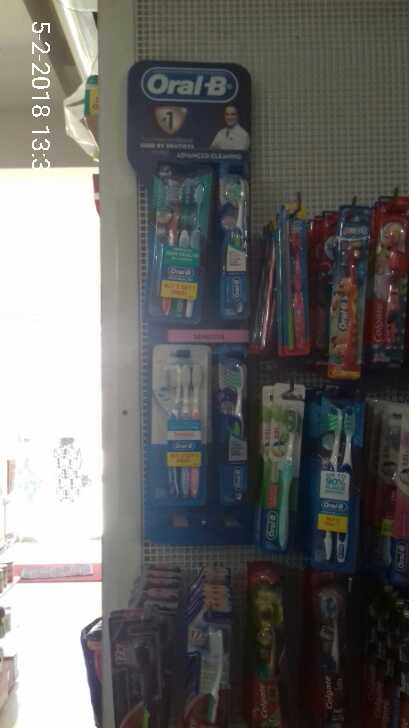oralb: (144, 164, 206, 318), (153, 359, 206, 507), (319, 402, 357, 574), (326, 213, 363, 383), (261, 400, 302, 549), (209, 175, 249, 320), (211, 362, 245, 506)
